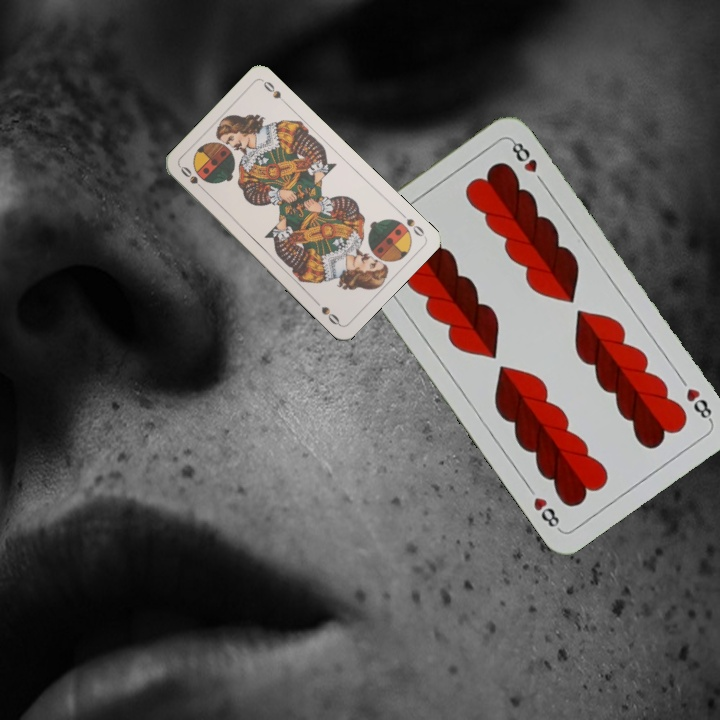H8: (682, 384, 715, 425)
SO: (176, 162, 209, 195), (395, 207, 427, 239)
